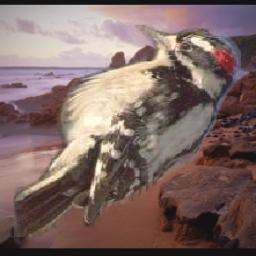Woodpecker: (14, 26, 241, 238)
